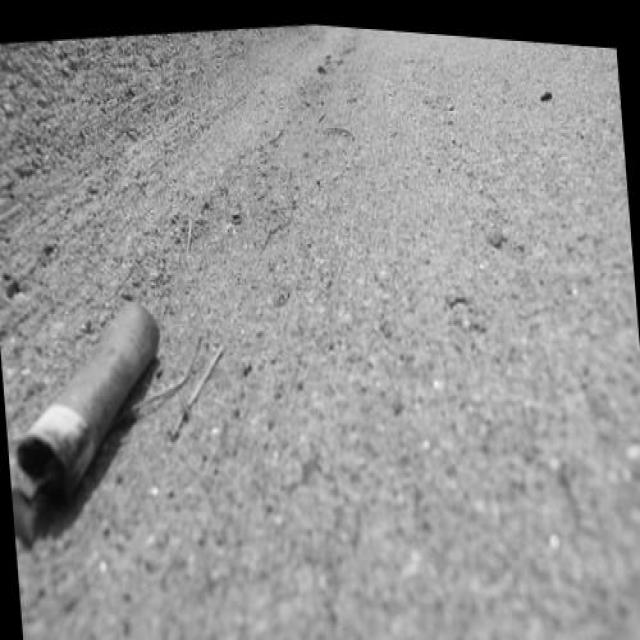cigarette: (0, 273, 178, 517)
